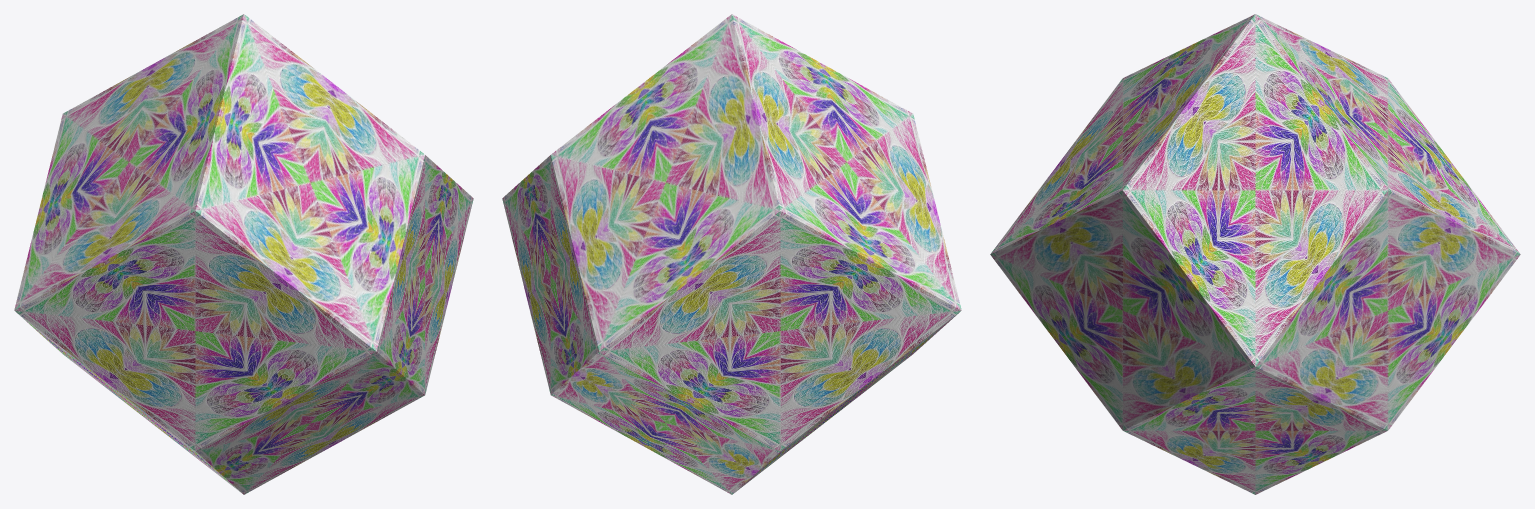
File: RhombicDodecahedron7.obj
The picture shows the model from 3 angles, left to right: view 1: azimuth 30°, elevation 25°; view 2: azimuth 150°, elevation 25°; view 3: azimuth 270°, elevation 25°; orthographic projection.
Bounding box in the file's own units: 2.12 × 2.12 × 2.12.
Materials: 1 (1 with a texture image).
